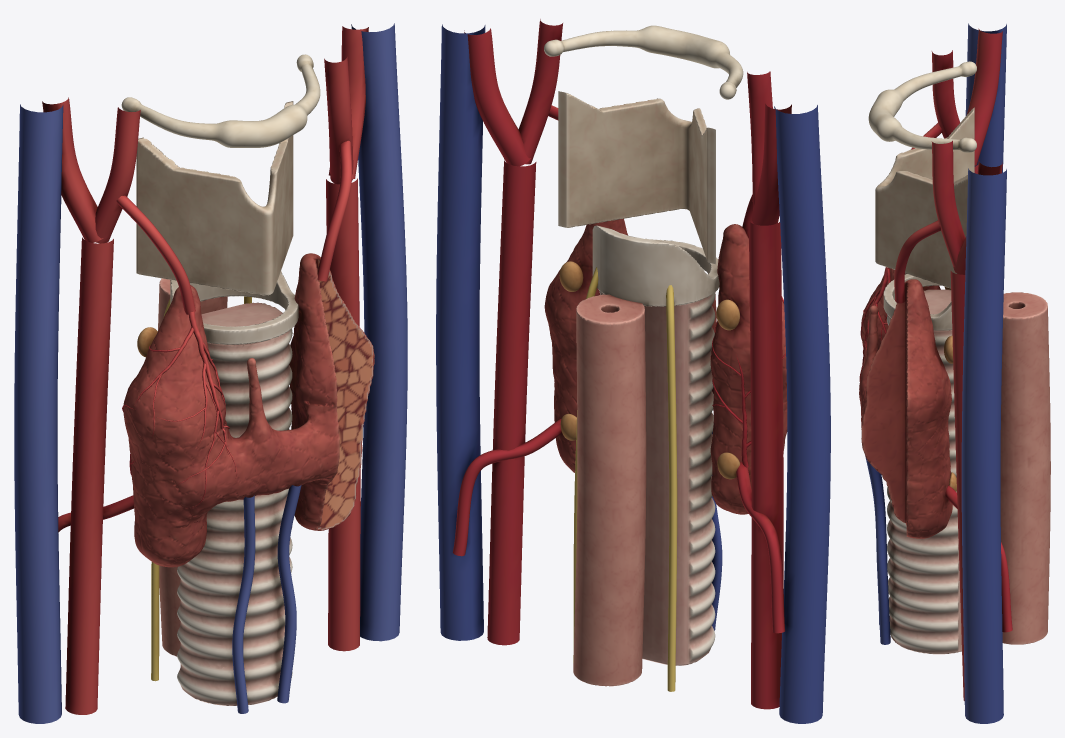
The model's file is thyroid.c0c79031.glb.
3 renders of one model, left to right at view 1: azimuth 30°, elevation 25°; view 2: azimuth 150°, elevation 25°; view 3: azimuth 270°, elevation 25°, orthographic. The views are drawn at different scales.
Parts seen in each view (by area): view 1: Thyroid veins, Thyroid gland, Thyroid arteries, Trachea, Thyroid cartilage, Hyoid bone, Cricoid cartilage, Oesophagus, Recurrent laryngeal nerves; view 2: Thyroid veins, Thyroid arteries, Oesophagus, Trachea, Thyroid cartilage, Thyroid gland, Cricoid cartilage, Hyoid bone, Recurrent laryngeal nerves, Parathyroid glands; view 3: Thyroid veins, Thyroid gland, Oesophagus, Thyroid arteries, Trachea, Thyroid cartilage, Hyoid bone, Cricoid cartilage, Parathyroid glands.
Part boxes in pixels (x1,y1,x2,y2): Thyroid veins: [14, 23, 407, 723]; Thyroid gland: [123, 253, 374, 567]; Thyroid arteries: [42, 26, 368, 714]; Trachea: [177, 302, 292, 705]; Thyroid cartilage: [136, 101, 293, 295]; Hyoid bone: [121, 54, 320, 147]; Cricoid cartilage: [170, 271, 298, 344]; Oesophagus: [158, 278, 227, 656]; Recurrent laryngeal nerves: [151, 296, 251, 681]; Thyroid veins: [436, 24, 830, 723]; Thyroid arteries: [452, 19, 791, 709]; Oesophagus: [573, 294, 646, 686]; Trachea: [599, 291, 715, 665]; Thyroid cartilage: [558, 91, 715, 264]; Thyroid gland: [544, 218, 787, 514]; Cricoid cartilage: [592, 225, 719, 306]; Hyoid bone: [544, 25, 743, 99]; Recurrent laryngeal nerves: [573, 267, 677, 691]; Parathyroid glands: [559, 261, 740, 479]; Thyroid veins: [865, 23, 1006, 723]; Thyroid gland: [859, 268, 952, 538]; Oesophagus: [1000, 292, 1050, 644]; Thyroid arteries: [859, 28, 1012, 700]; Trachea: [887, 289, 961, 654]; Thyroid cartilage: [875, 107, 974, 288]; Hyoid bone: [868, 61, 976, 152]; Cricoid cartilage: [883, 274, 952, 330]; Parathyroid glands: [944, 287, 956, 491].
Bounding box in the file's own units: 2.48 × 3.73 × 1.18.
